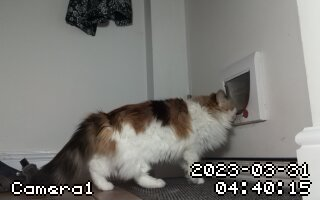clara: (57, 93, 254, 194)
